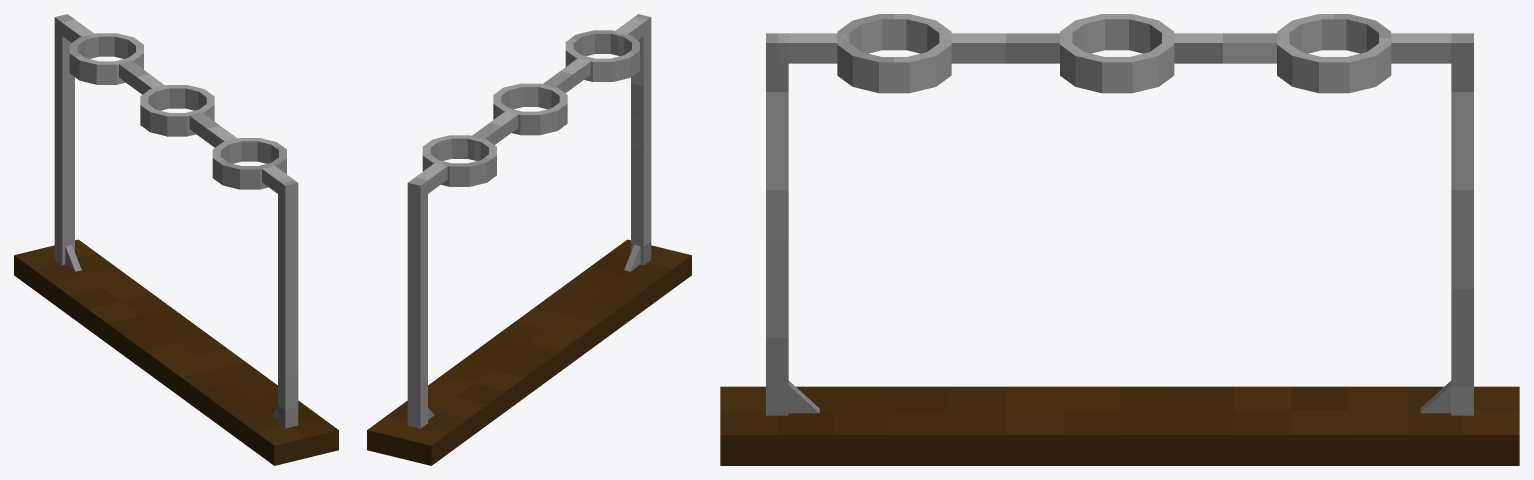
Rendered from test_tube_stand.gltf.
The picture shows the model from 3 angles, left to right: view 1: azimuth 30°, elevation 25°; view 2: azimuth 150°, elevation 25°; view 3: azimuth 270°, elevation 25°; orthographic projection. The views are drawn at different scales.
Visible parts, largest first — view 1: Item_stand; view 2: Item_stand; view 3: Item_stand.
Part boxes in pixels (x1,y1,x2,y2): Item_stand: (14, 14, 338, 465); Item_stand: (367, 14, 691, 465); Item_stand: (720, 14, 1519, 465).
Size of the model in its own units: 0.125 by 0.4875 by 0.875.
Materials: 2 (2 with a texture image).
